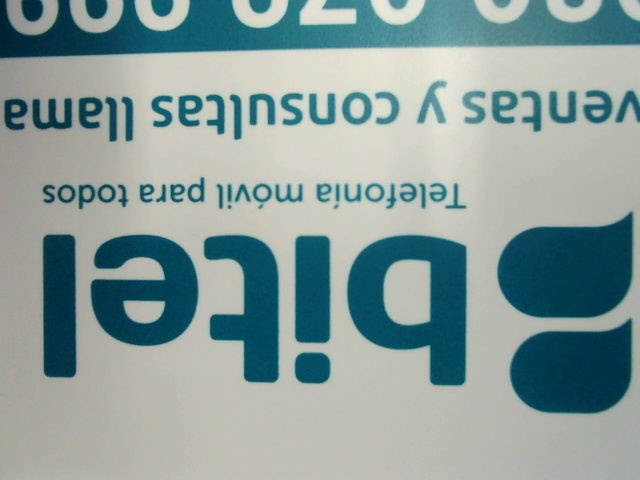BE_bitel: (29, 211, 639, 412)
